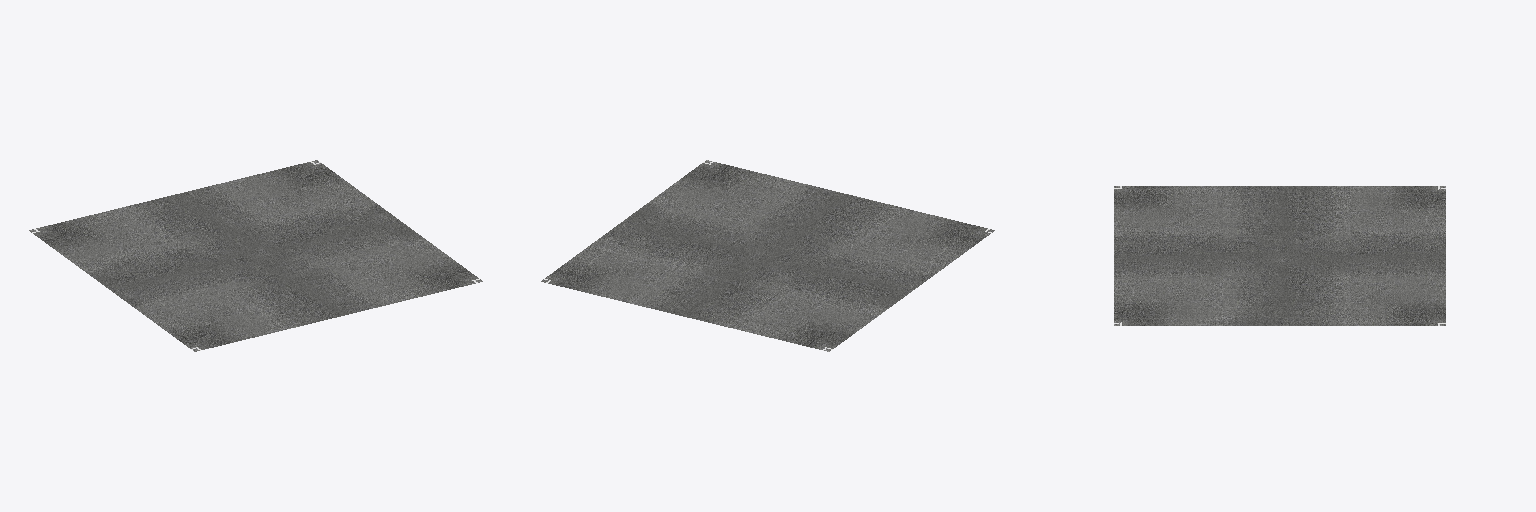
3 renders of one model, left to right at view 1: azimuth 30°, elevation 25°; view 2: azimuth 150°, elevation 25°; view 3: azimuth 270°, elevation 25°, orthographic.
Parts seen in each view (by area): view 1: pPlane1; view 2: pPlane1; view 3: pPlane1.
Part boxes in pixels (x1,y1,x2,y2): pPlane1: (29,160,482,351); pPlane1: (541,160,994,351); pPlane1: (1114,186,1445,325).
Size of the model in its own units: 12.07 by 0 by 12.03.
Materials: 1 (1 with a texture image).